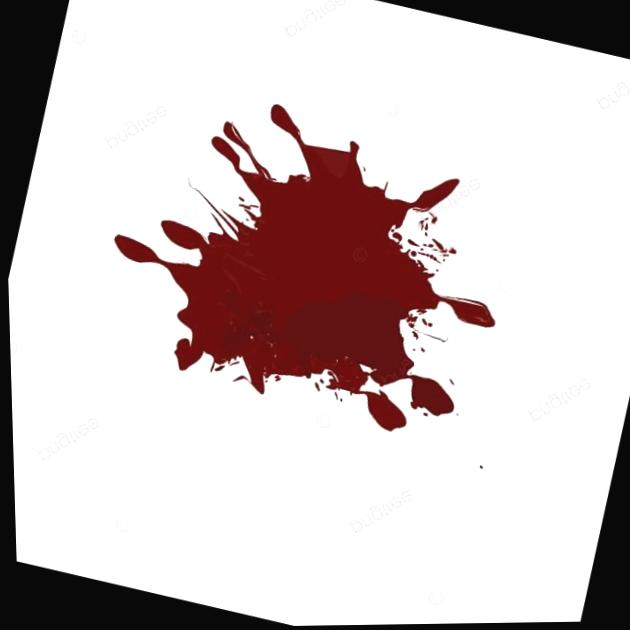Fire: (111, 105, 492, 432)
